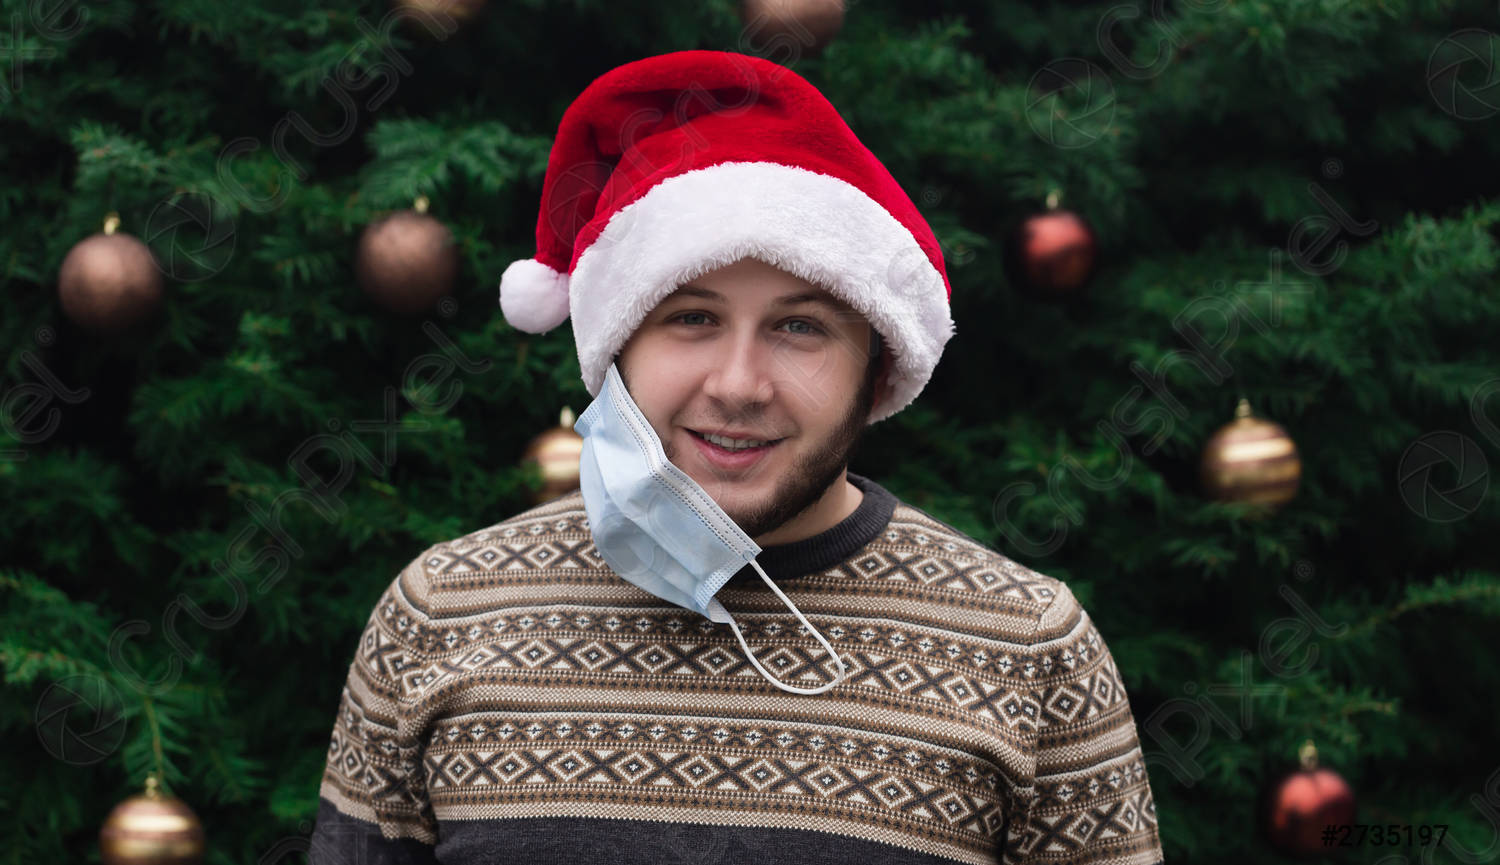mask_weared_incorrect: (609, 277, 867, 542)
